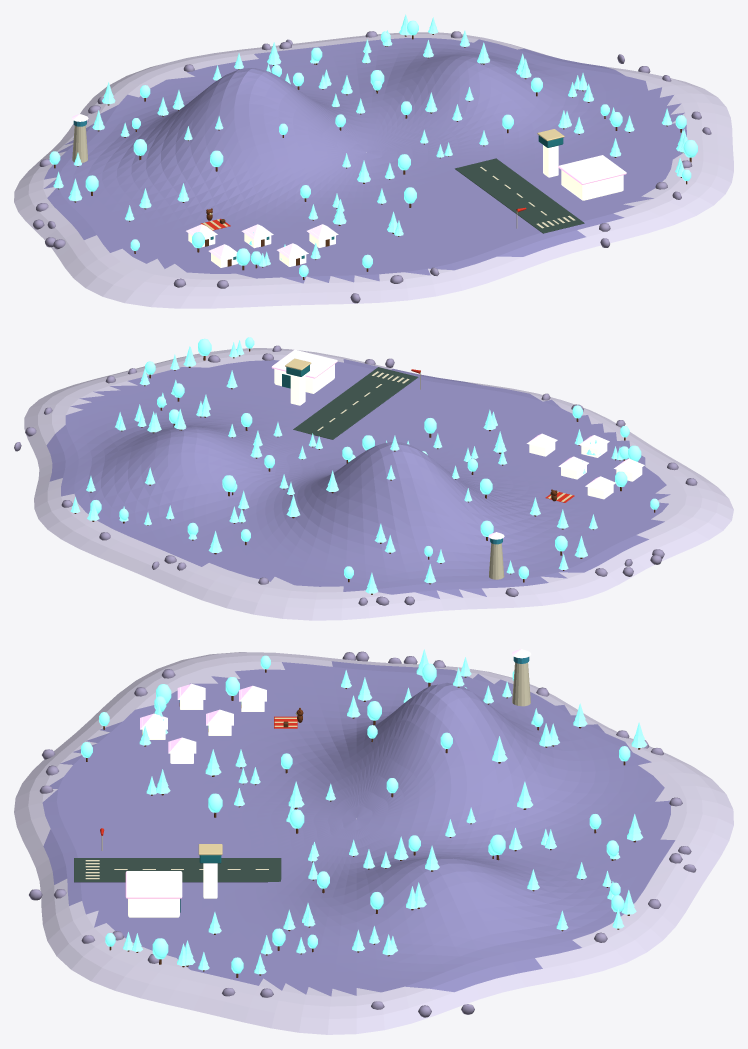
File: starry-island.glb
3 renders of one model, top to bottom at view 1: azimuth 30°, elevation 25°; view 2: azimuth 150°, elevation 25°; view 3: azimuth 270°, elevation 25°, orthographic. The views are drawn at different scales.
Parts seen in each view (by area): view 1: Peach sand, Leaf 0, Runway, Leaf 1, Leaf 2, Terracotta roofs, Buttercream walls, Warm rock, Chalk, Cinnamon wood; view 2: Peach sand, Leaf 0, Runway, Leaf 1, Leaf 2, Terracotta roofs, Buttercream walls, Warm rock, Chalk; view 3: Peach sand, Leaf 0, Leaf 1, Leaf 2, Runway, Terracotta roofs, Buttercream walls, Warm rock, Chalk.
Part boxes in pixels (bbox=[...]): Peach sand: bbox=[14, 32, 733, 308]; Leaf 0: bbox=[49, 20, 697, 276]; Runway: bbox=[455, 158, 584, 233]; Leaf 1: bbox=[53, 14, 687, 245]; Leaf 2: bbox=[92, 17, 687, 266]; Terracotta roofs: bbox=[72, 114, 626, 259]; Buttercream walls: bbox=[188, 145, 623, 267]; Warm rock: bbox=[33, 31, 711, 303]; Chalk: bbox=[72, 125, 575, 228]; Cinnamon wood: bbox=[54, 34, 691, 279]; Peach sand: bbox=[24, 348, 733, 620]; Leaf 0: bbox=[90, 337, 659, 578]; Runway: bbox=[293, 367, 418, 439]; Leaf 1: bbox=[86, 340, 597, 573]; Leaf 2: bbox=[70, 342, 622, 593]; Terracotta roofs: bbox=[271, 349, 644, 539]; Buttercream walls: bbox=[274, 364, 642, 499]; Warm rock: bbox=[14, 345, 697, 605]; Chalk: bbox=[317, 371, 504, 579]; Peach sand: bbox=[14, 652, 733, 1034]; Leaf 0: bbox=[81, 655, 630, 973]; Leaf 1: bbox=[123, 649, 643, 970]; Leaf 2: bbox=[132, 667, 647, 974]; Runway: bbox=[74, 858, 281, 882]; Terracotta roofs: bbox=[125, 649, 531, 898]; Buttercream walls: bbox=[128, 687, 264, 917]; Warm rock: bbox=[29, 651, 696, 1017]; Chalk: bbox=[85, 662, 530, 879].
Bounding box in the file's own units: 192 × 29.64 × 153.
